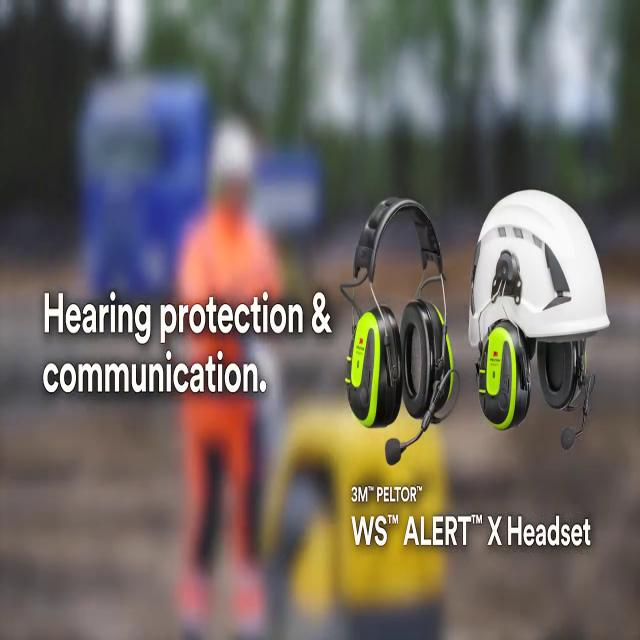earmuff: (344, 302, 402, 430), (400, 297, 456, 424), (480, 321, 531, 435)
